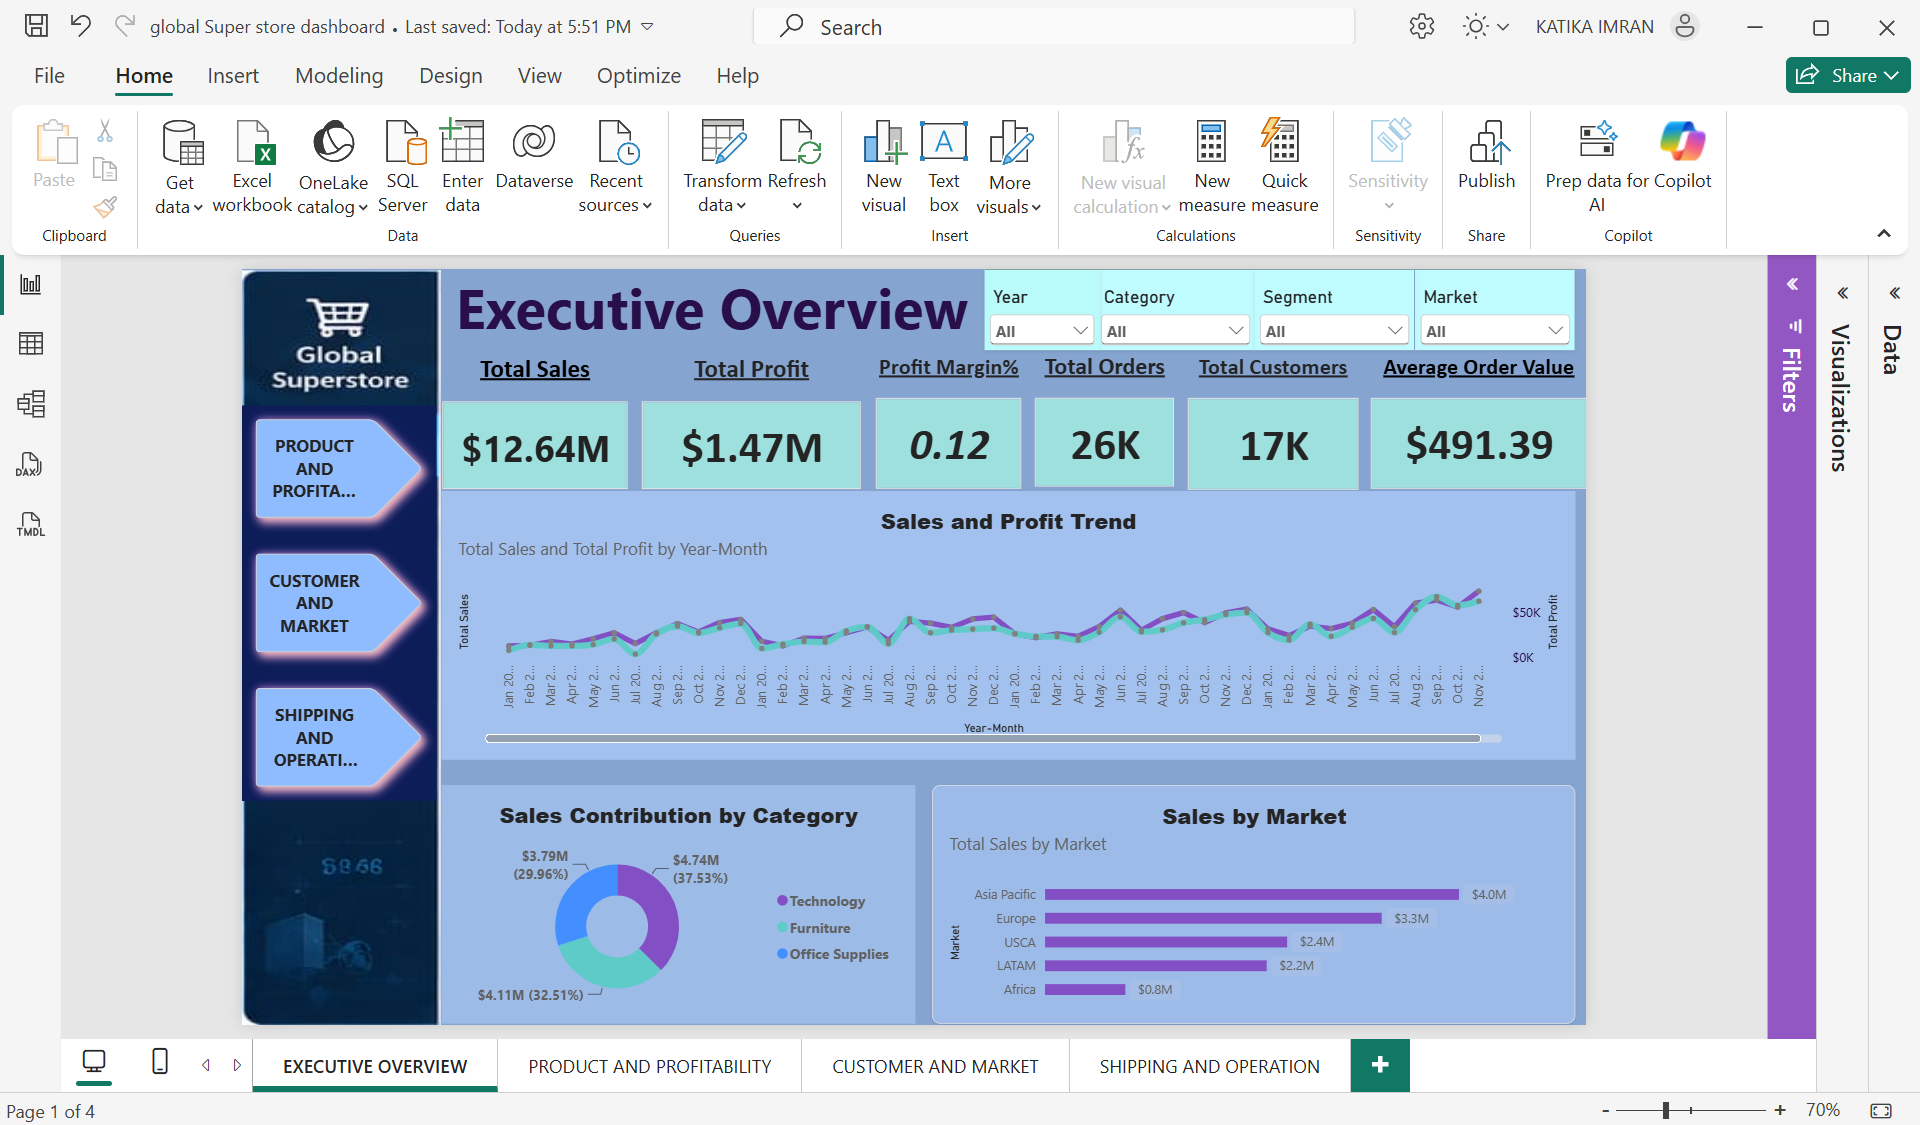

This screenshot's page, from the dashboard's own definition file:
{"tool":"powerbi","page":{"name":"EXECUTIVE OVERVIEW","canvas":[1280,720],"ordinal":0},"visuals":[{"type":"cardVisual","title":"Total Sales","fields":{"Data":["_Measures.Total Sales"]},"box":[189.5,80.5,178.4,131.1],"z":0},{"type":"cardVisual","title":"Total Profit","fields":{"Data":["_Measures.Total Profit"]},"box":[380.5,80.5,210.8,130.9],"z":1000},{"type":"cardVisual","title":"Profit Margin%","fields":{"Data":["_Measures.Profit Margin %"]},"box":[602.7,80.3,140.8,130.2],"z":2000},{"type":"cardVisual","title":"Total Orders","fields":{"Data":["_Measures.Total Orders"]},"box":[754.7,78.9,134.8,130.2],"z":3000},{"type":"cardVisual","title":"Total Customers","fields":{"Data":["_Measures.Total Customers"]},"box":[900,80.5,164.2,131.1],"z":4000},{"type":"cardVisual","title":"Average Order Value","fields":{"Data":["_Measures.Avg Order Value"]},"box":[1073.7,80.5,207.4,130.2],"z":5000},{"type":"lineChart","title":"Sales and Profit Trend","fields":{"Category":["Date.Year-Month"],"Y":["_Measures.Total Sales"],"Y2":["_Measures.Total Profit"]},"box":[189.5,211.6,1080,255.8],"z":6000},{"type":"clusteredBarChart","title":"Sales by Market","fields":{"Category":["Orders.Market"],"Y":["_Measures.Total Sales"]},"box":[656.9,491.1,612.6,227.4],"z":7000},{"type":"donutChart","title":"Sales Contribution by Category","fields":{"Category":["Orders.Category"],"Y":["_Measures.Total Sales"]},"box":[189.5,491.1,451.6,227.4],"z":8000},{"type":"textbox","title":"Executive Overview","box":[189.3,0,517.9,77.2],"z":9000},{"type":"slicer","fields":{"Values":["Orders.Category"]},"box":[812.7,0,152.1,77],"z":10000},{"type":"slicer","fields":{"Values":["Orders.Market"]},"box":[1117,0,152.1,77],"z":11000},{"type":"slicer","fields":{"Values":["Date.Year"]},"box":[706.8,0,109.8,77],"z":12000},{"type":"slicer","fields":{"Values":["Orders.Segment"]},"box":[964.8,0,152.1,77],"z":13000},{"type":"actionButton","box":[0,1.6,189.5,718.4],"z":14000},{"type":"pageNavigator","box":[0,130,185,376.7],"z":15001}]}

Visuals, with their boxes on the page's 1280x720 design canvas (x1, y1, x2, y2). These are canvas units, not pixel positions in the 1920x1125 screenshot, which may show the page scaled, cropped or inside an application window:
"Total Sales" cardVisual: crop(190, 80, 368, 212)
"Total Profit" cardVisual: crop(380, 80, 591, 211)
"Profit Margin%" cardVisual: crop(603, 80, 744, 210)
"Total Orders" cardVisual: crop(755, 79, 890, 209)
"Total Customers" cardVisual: crop(900, 80, 1064, 212)
"Average Order Value" cardVisual: crop(1074, 80, 1281, 211)
"Sales and Profit Trend" lineChart: crop(190, 212, 1270, 467)
"Sales by Market" clusteredBarChart: crop(657, 491, 1270, 718)
"Sales Contribution by Category" donutChart: crop(190, 491, 641, 718)
"Executive Overview" textbox: crop(189, 0, 707, 77)
slicer - Orders.Category: crop(813, 0, 965, 77)
slicer - Orders.Market: crop(1117, 0, 1269, 77)
slicer - Date.Year: crop(707, 0, 817, 77)
slicer - Orders.Segment: crop(965, 0, 1117, 77)
actionButton: crop(0, 2, 190, 720)
pageNavigator: crop(0, 130, 185, 507)
